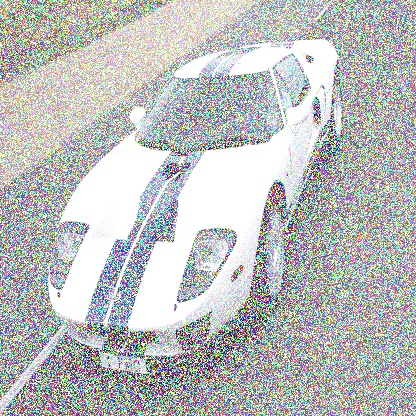Vehicle: (41, 39, 344, 385)
